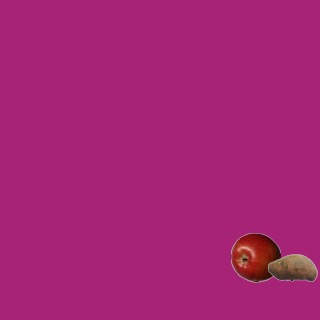Apple Braeburn: (230, 232, 280, 282)
Potato Sweet: (267, 242, 317, 292)
